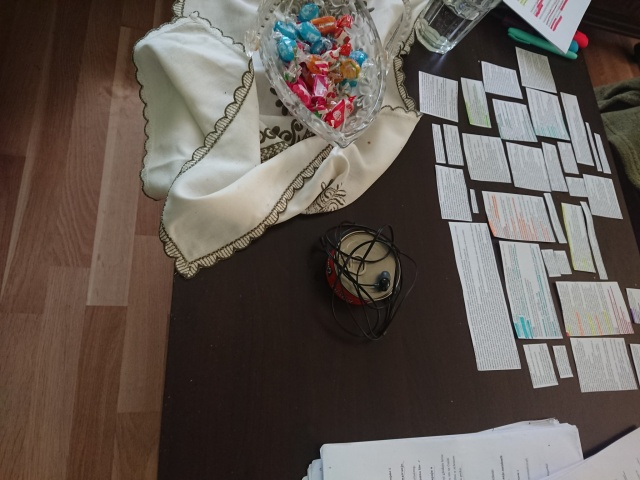Gavrilovic Pork Liver Pate 100g: (322, 228, 402, 308)
